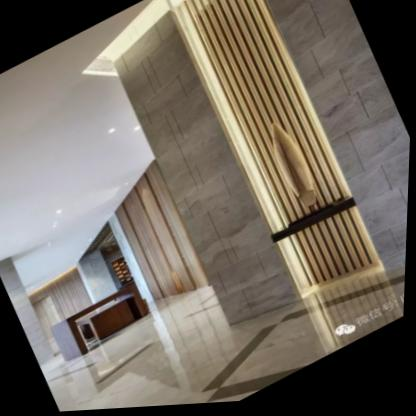Ceramic floor: (48, 280, 407, 412)
Wall Panel: (116, 0, 411, 331), (116, 160, 214, 305)
